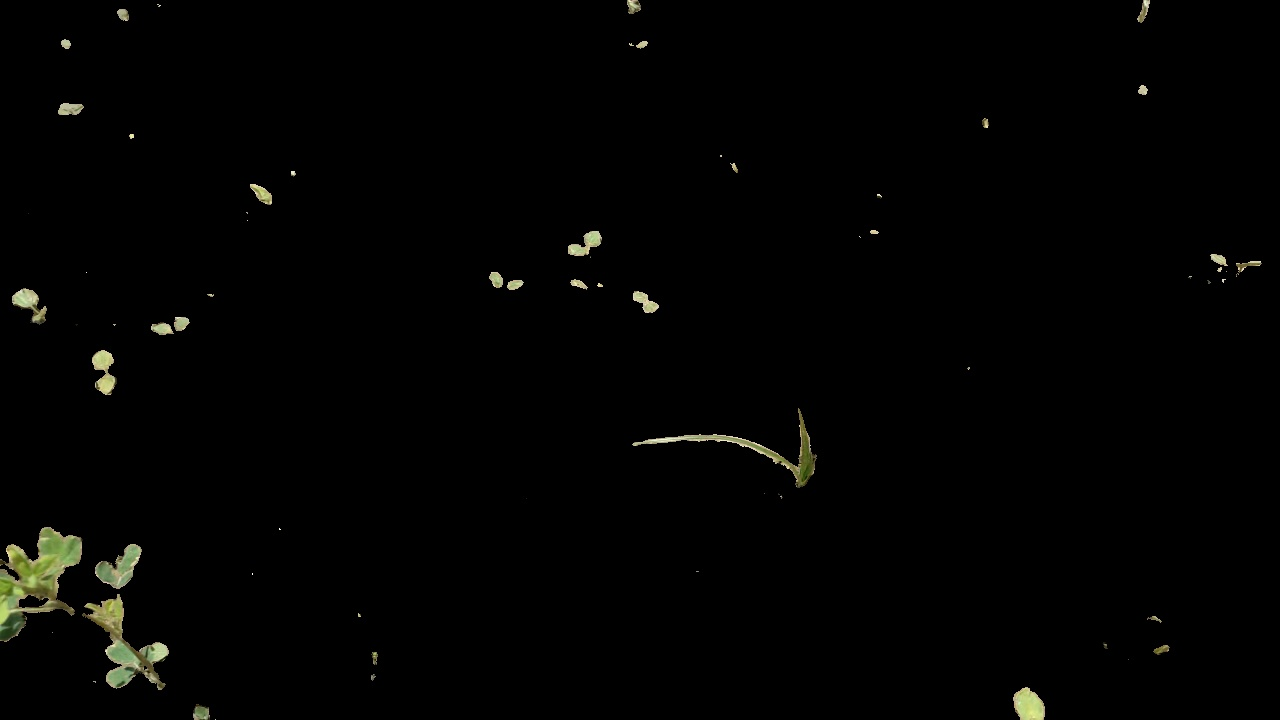weed: (1, 510, 171, 701), (622, 403, 829, 492), (1201, 244, 1260, 285), (83, 346, 122, 405), (999, 687, 1060, 720), (10, 281, 50, 326), (244, 176, 287, 213), (481, 262, 524, 295), (569, 223, 602, 264), (152, 300, 187, 336), (629, 282, 660, 319), (567, 271, 606, 292), (56, 96, 85, 117)
